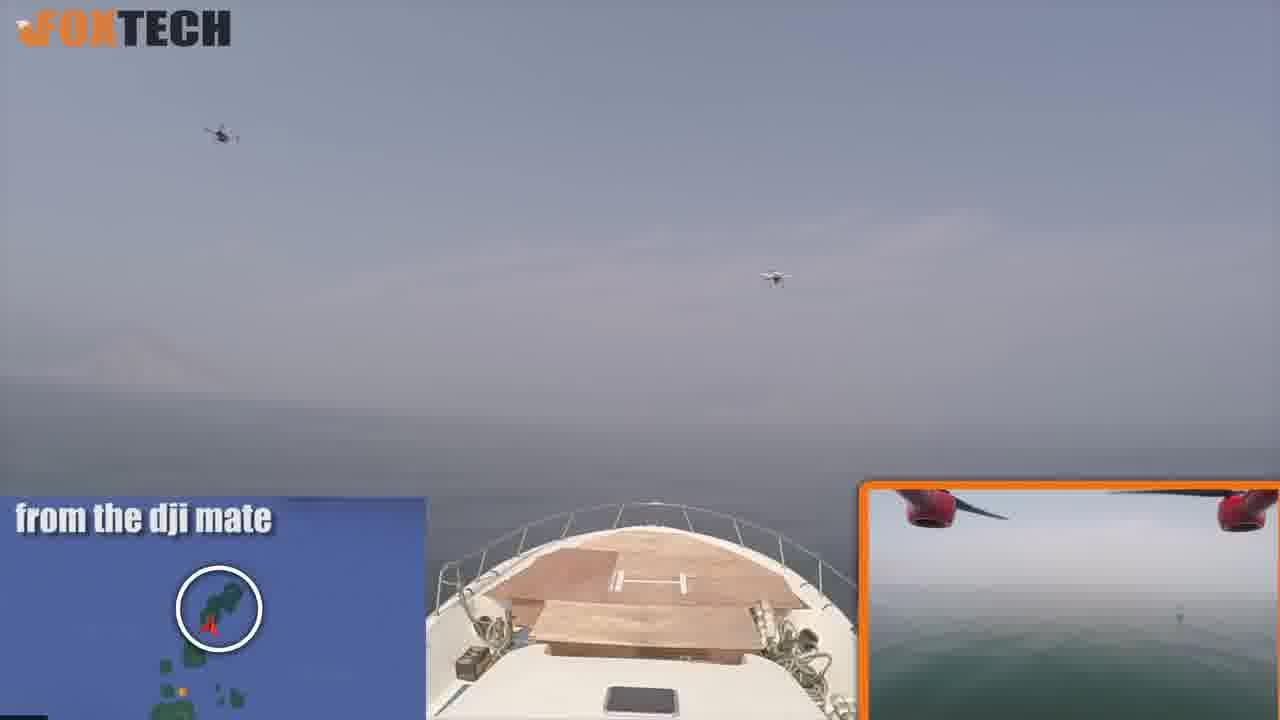drone: (197, 119, 251, 148), (753, 263, 798, 288)
